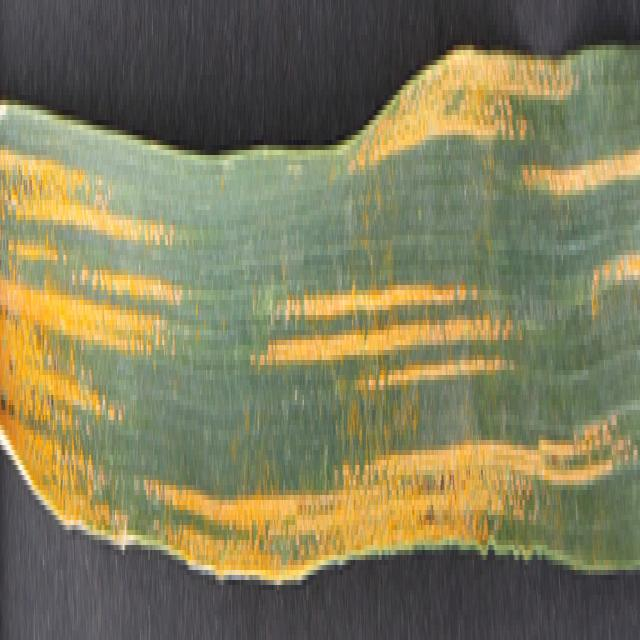leaf rust: (1, 45, 638, 580)
